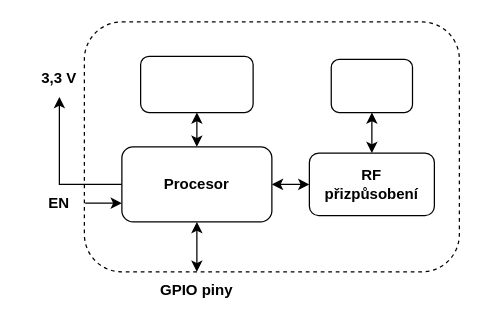
This 481x331 diagram has some shape labels left out. Here are the shapes that lost their labels. From the top down, the centre of each, then its label:
(x=196, y=83): Krystal 40 MHz
(x=371, y=85): Anténa
